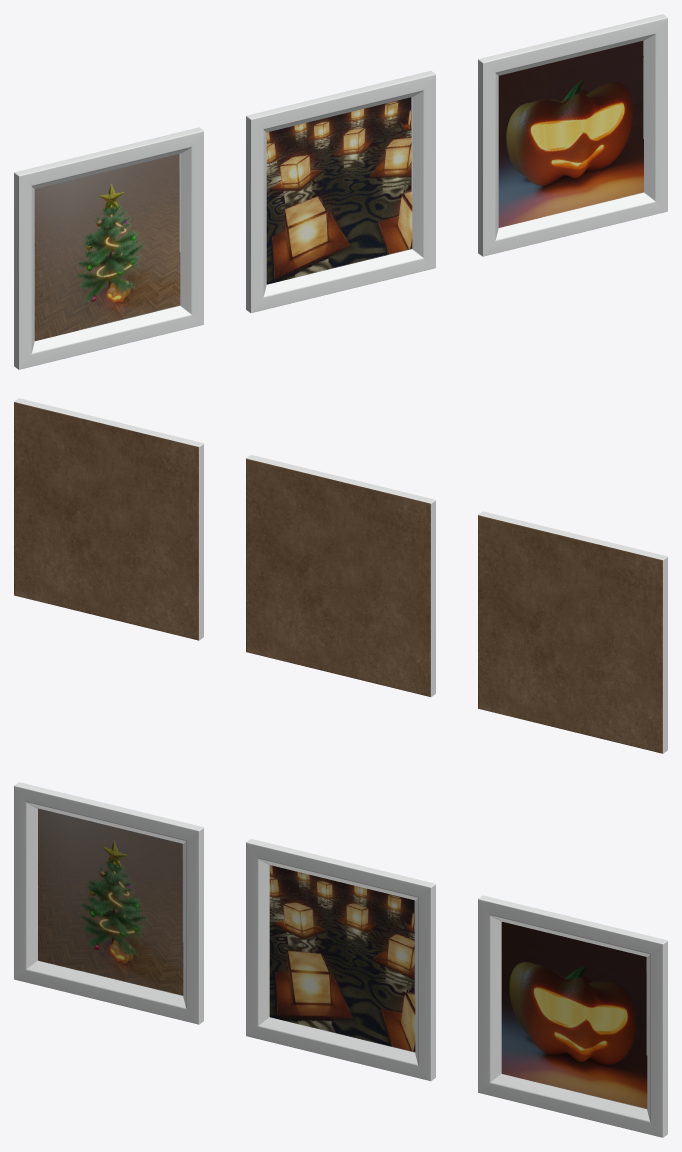
The model's file is frame.glb.
3 views of the same model, one above another, from view 1: azimuth 30°, elevation 25°; view 2: azimuth 150°, elevation 25°; view 3: azimuth 330°, elevation 25° (orthographic).
Visible parts, largest first — view 1: Frame2, Frame1, Frame3; view 2: Frame2, Frame1, Frame3; view 3: Frame2, Frame1, Frame3.
Boxes of the visible parts, x1,y1,x2,y2 form: Frame2: (246, 71, 435, 312); Frame1: (14, 127, 203, 369); Frame3: (478, 14, 667, 256); Frame2: (246, 455, 435, 696); Frame1: (478, 511, 667, 753); Frame3: (14, 398, 203, 640); Frame2: (246, 839, 435, 1080); Frame1: (14, 782, 203, 1024); Frame3: (478, 895, 667, 1137).
Bounding box in the file's own units: 1.4 × 0.4 × 0.0199.
Materials: 3 (3 with a texture image).
